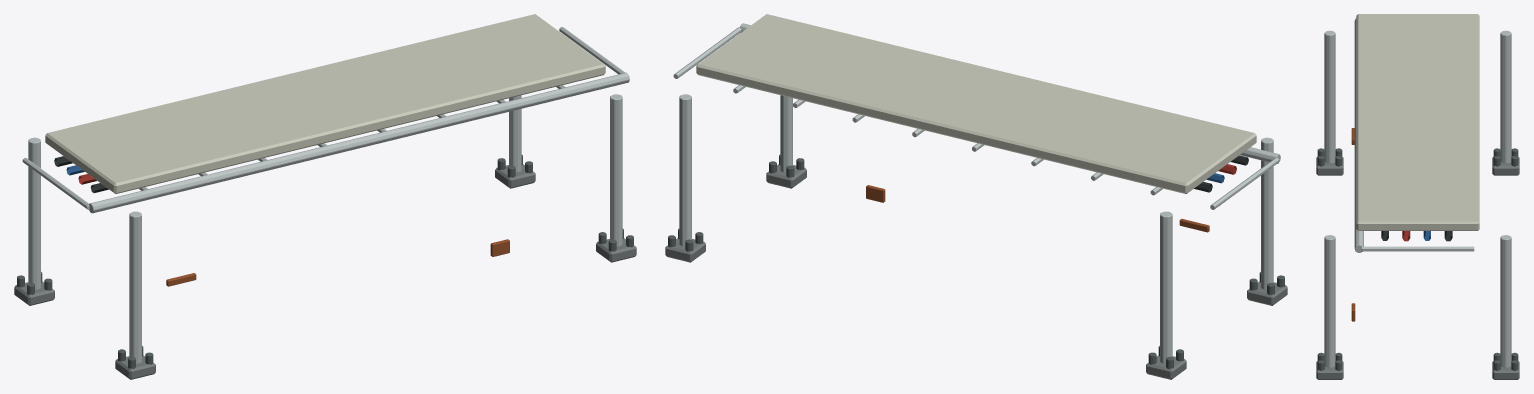
File: runtime.glb
3 views of the same model, side by side, from view 1: azimuth 30°, elevation 25°; view 2: azimuth 150°, elevation 25°; view 3: azimuth 270°, elevation 25° (orthographic). The views are drawn at different scales.
Parts seen in each view (by area): view 1: reactor-cable-tray-v06_nocol; view 2: reactor-cable-tray-v06_nocol; view 3: reactor-cable-tray-v06_nocol.
Part boxes in pixels (bbox=[...]): reactor-cable-tray-v06_nocol: bbox=[14, 14, 636, 379]; reactor-cable-tray-v06_nocol: bbox=[665, 14, 1287, 379]; reactor-cable-tray-v06_nocol: bbox=[1316, 14, 1519, 379].
Size of the model in its own units: 5.15 by 1.62 by 1.92.
